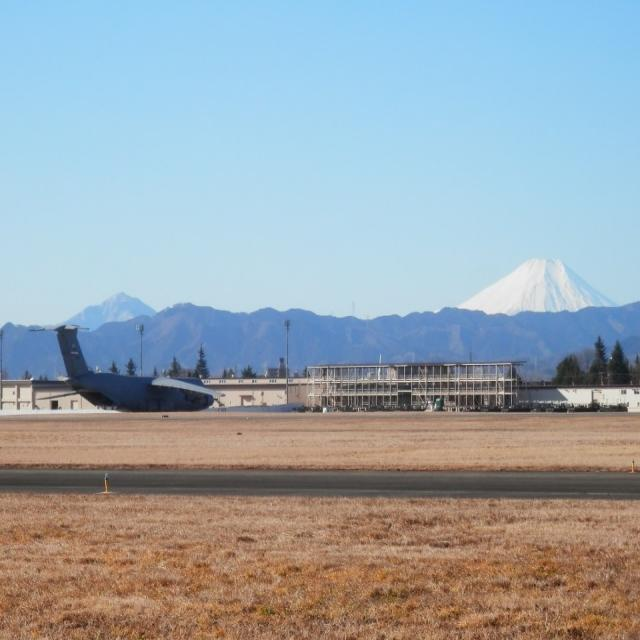MIL_Plane: (24, 323, 222, 412)
